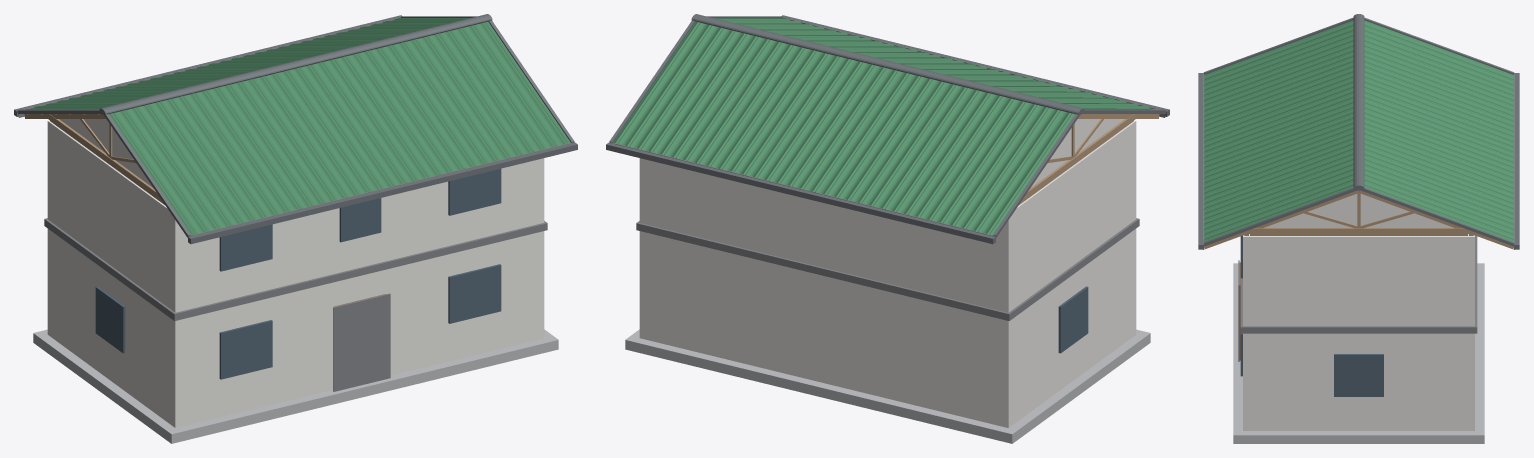
Rendered from Mega_Twin_Rib_Large_Two_Storey_10x6.glb.
3 renders of one model, left to right at view 1: azimuth 30°, elevation 25°; view 2: azimuth 150°, elevation 25°; view 3: azimuth 270°, elevation 25°, orthographic. The views are drawn at different scales.
Visible parts, largest first — view 1: GroundFloor_Walls, Foundation, RoofSheet_03, RoofSheet_05, RoofSheet_07, RoofSheet_09, RoofSheet_04, RoofSheet_02, RoofSheet_06, RoofSheet_10, RoofSheet_08, Door_Frame (+28 smaller); view 2: GroundFloor_Walls, Foundation, RoofSheet_14, RoofSheet_16, RoofSheet_18, RoofSheet_20, RoofSheet_15, RoofSheet_13, RoofSheet_17, RoofSheet_21, RoofSheet_19, RoofSheet_22 (+22 smaller); view 3: GroundFloor_Walls, Foundation, Gable_Wall_Right, RoofSheet_07, RoofSheet_18, RoofSheet_03, RoofSheet_14, RoofSheet_09, RoofSheet_20, RoofSheet_02, RoofSheet_13, RoofSheet_05 (+26 smaller).
Part boxes in pixels (<box>): GroundFloor_Walls: <box>47,120,544,427</box>; Foundation: <box>33,329,558,443</box>; RoofSheet_03: <box>176,89,292,218</box>; RoofSheet_05: <box>246,72,362,201</box>; RoofSheet_07: <box>316,55,432,184</box>; RoofSheet_09: <box>385,38,502,167</box>; RoofSheet_04: <box>211,81,328,210</box>; RoofSheet_02: <box>141,98,258,227</box>; RoofSheet_06: <box>281,64,397,193</box>; RoofSheet_10: <box>420,30,537,158</box>; RoofSheet_08: <box>350,47,467,176</box>; Door_Frame: <box>333,293,390,391</box>; GroundFloor_Walls: <box>639,120,1136,427</box>; Foundation: <box>625,329,1150,443</box>; RoofSheet_14: <box>891,89,1007,218</box>; RoofSheet_16: <box>821,72,937,201</box>; RoofSheet_18: <box>751,55,867,184</box>; RoofSheet_20: <box>681,38,798,167</box>; RoofSheet_15: <box>855,81,972,210</box>; RoofSheet_13: <box>925,98,1042,227</box>; RoofSheet_17: <box>786,64,902,193</box>; RoofSheet_21: <box>646,30,763,158</box>; RoofSheet_19: <box>716,47,833,176</box>; RoofSheet_22: <box>613,22,728,150</box>; GroundFloor_Walls: <box>1243,234,1474,430</box>; Foundation: <box>1233,263,1484,443</box>; Gable_Wall_Right: <box>1265,194,1452,227</box>; RoofSheet_07: <box>1203,112,1353,182</box>; RoofSheet_18: <box>1364,112,1514,182</box>; RoofSheet_03: <box>1203,50,1353,120</box>; RoofSheet_14: <box>1364,50,1514,120</box>; RoofSheet_09: <box>1203,143,1353,213</box>; RoofSheet_20: <box>1364,143,1514,213</box>; RoofSheet_02: <box>1203,35,1353,104</box>; RoofSheet_13: <box>1364,35,1514,104</box>; RoofSheet_05: <box>1203,81,1353,151</box>.
Size of the model in its own units: 10.5 by 7.36 by 8.3.
